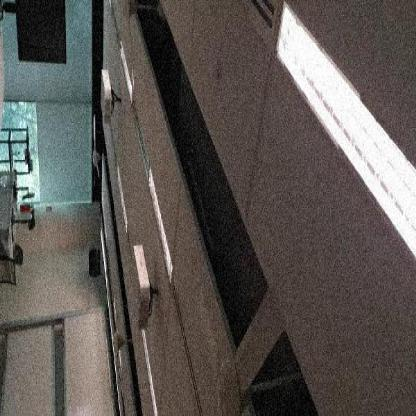light_on: (259, 0, 415, 278), (142, 160, 177, 284), (132, 324, 162, 414), (114, 35, 138, 102), (114, 164, 129, 238)
